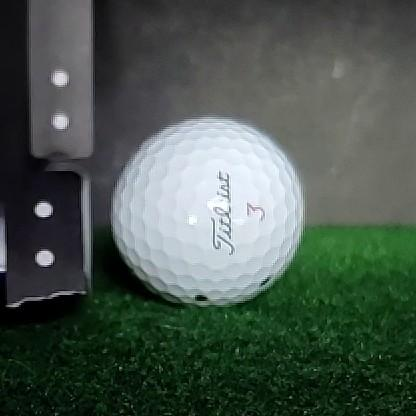golfball: (111, 118, 303, 307)
